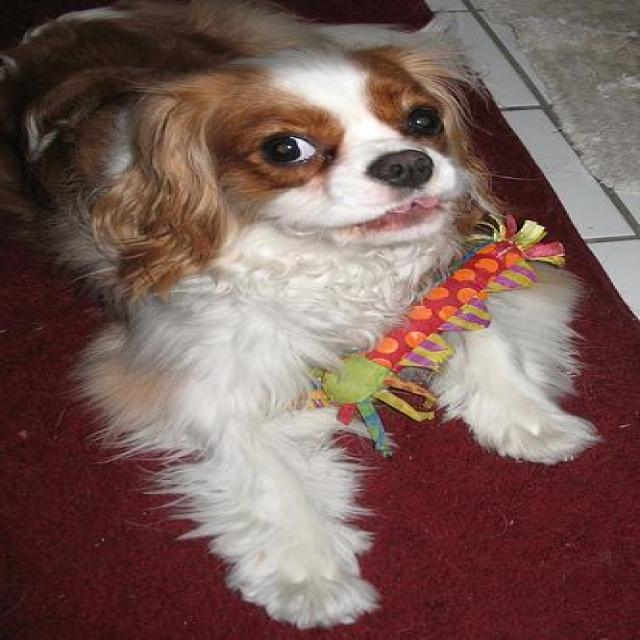blenheim_spaniel: (2, 7, 605, 638)
